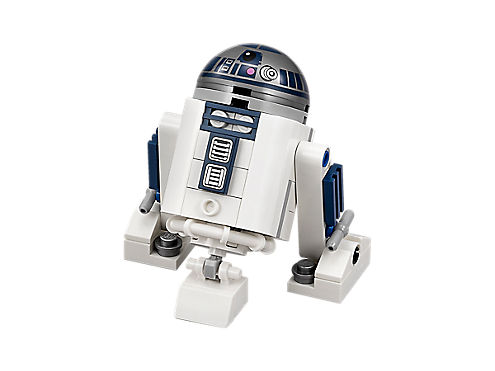r2d2: (124, 43, 372, 329)
